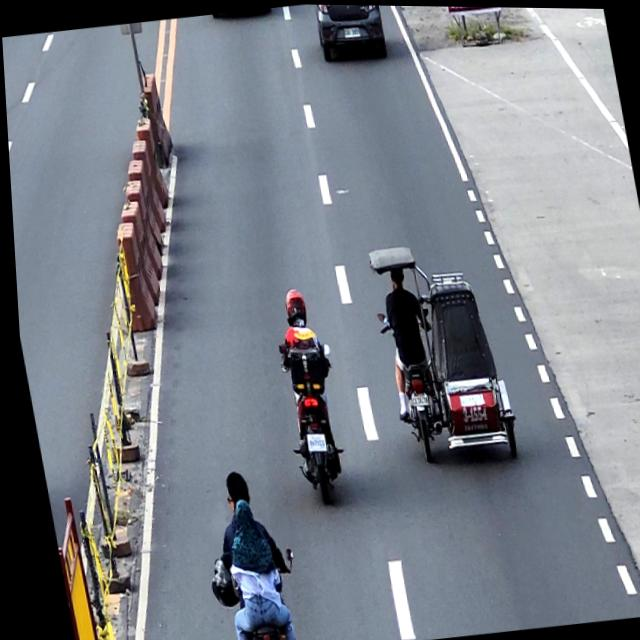Car: (313, 4, 388, 63)
License-Plate: (300, 431, 322, 453), (405, 391, 423, 406), (341, 24, 361, 37)
Motorcycle: (271, 334, 352, 505), (206, 540, 302, 640)
Tricycle: (362, 232, 518, 472)
